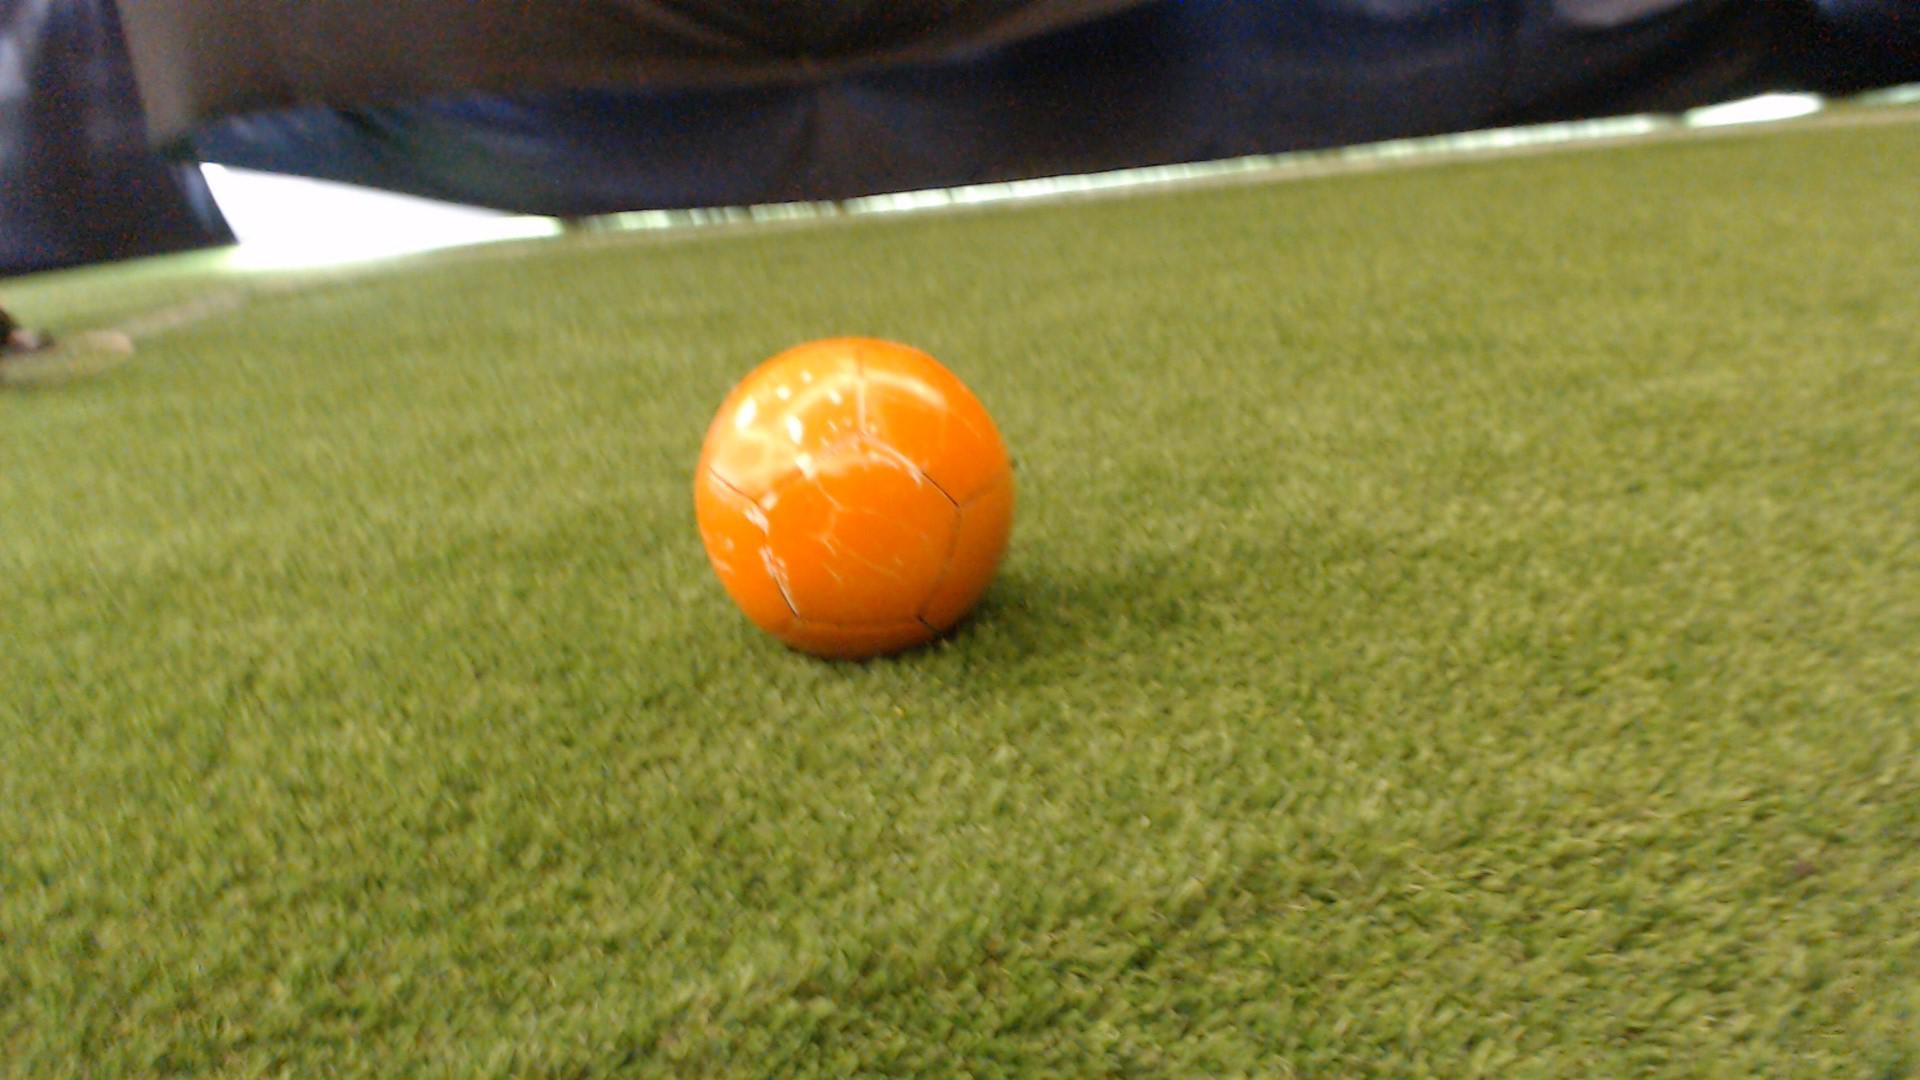bola: (677, 320, 1045, 668)
